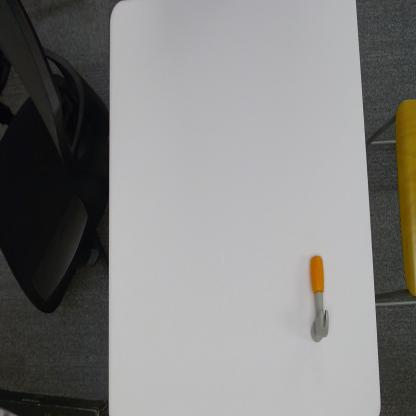Hammer: (306, 252, 329, 342)
